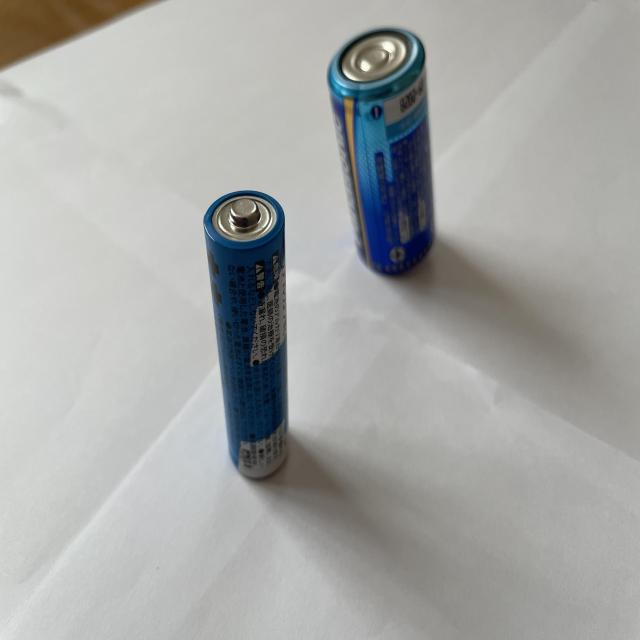AA: (203, 190, 290, 482)
